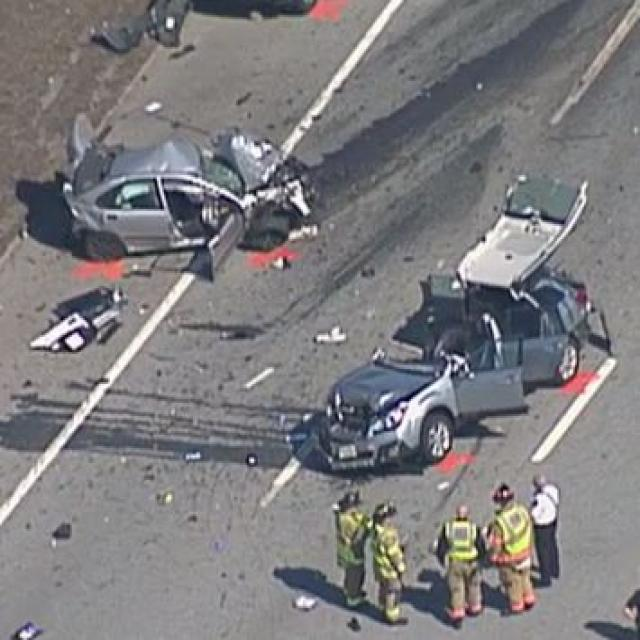traffic_incident: (319, 256, 564, 469)
